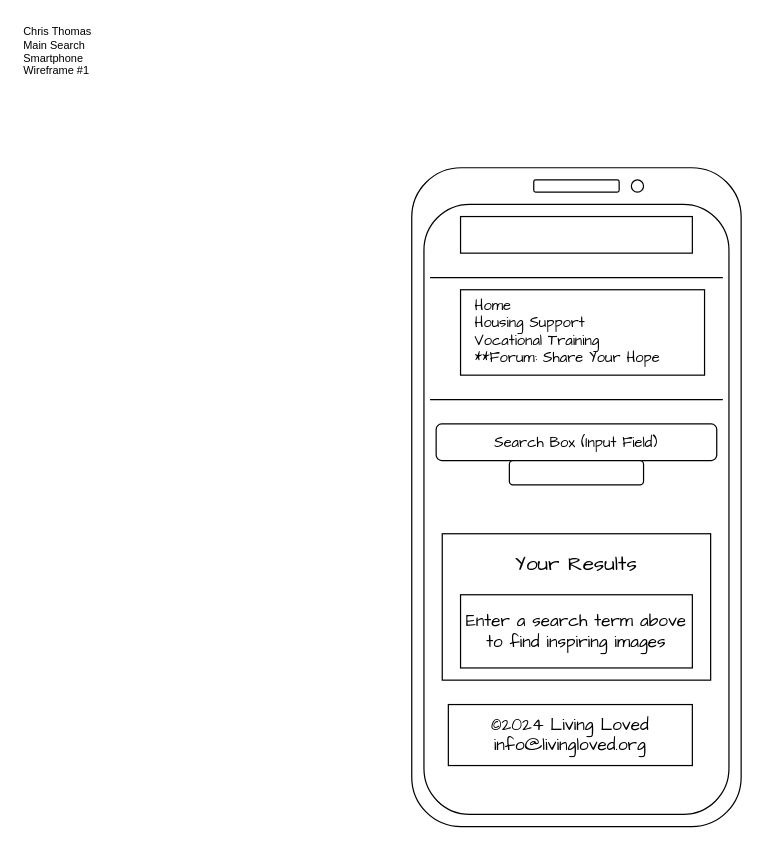
Some shapes in this 763 by 848 pixel diagram are drawn without their labels. Each missing label, with the box of its shape:
Living Loved Aggregator: (459, 215, 692, 253)
Search Button: (508, 459, 644, 485)
